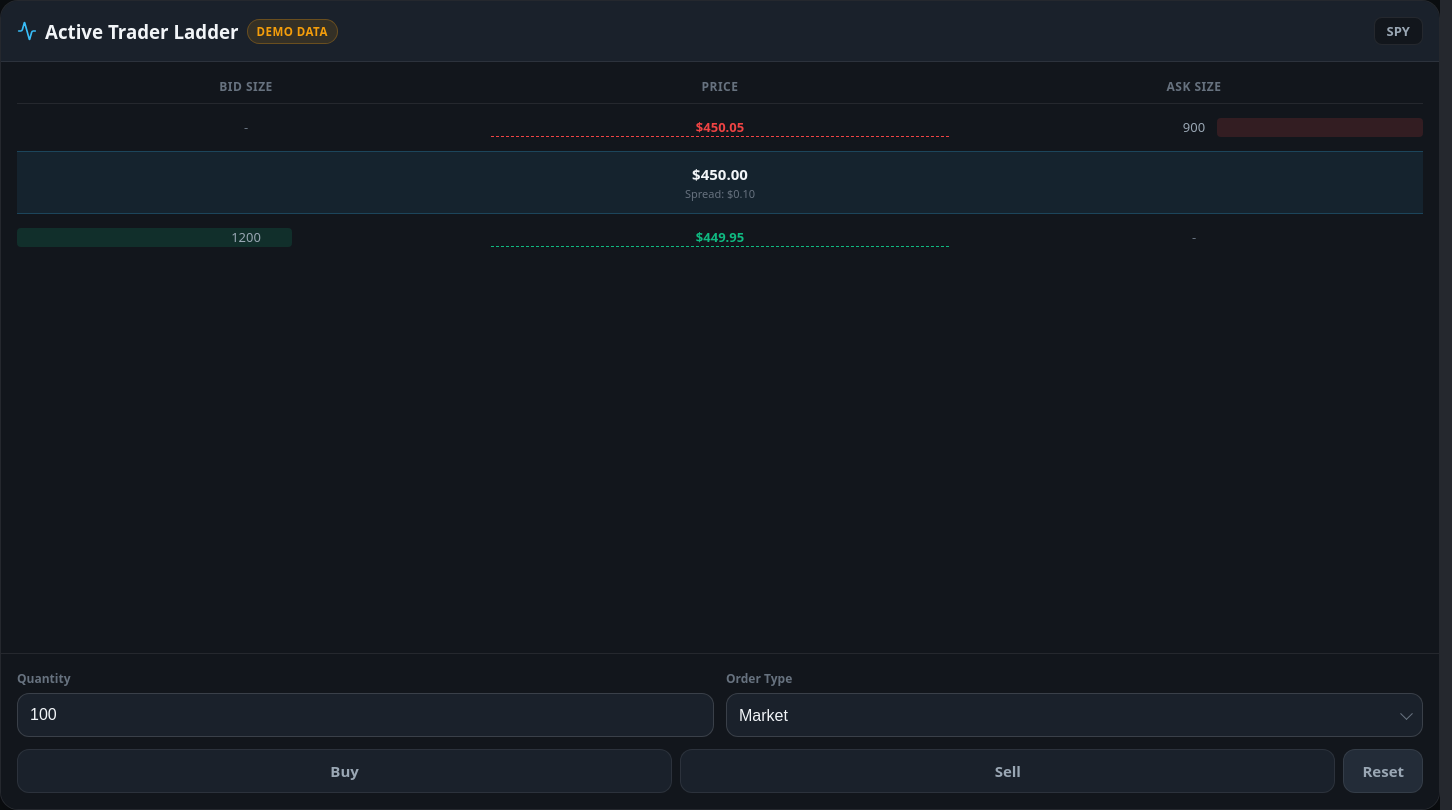
Scenario: ActiveTraderLadder — trade panel › Buy with the MARKET default composes a market-order command, never claiming to run the queue-only skill
The image size is (1452, 810).
Click the button with test id "ladder-buy-button" at (345, 771), box [17,749,672,793]
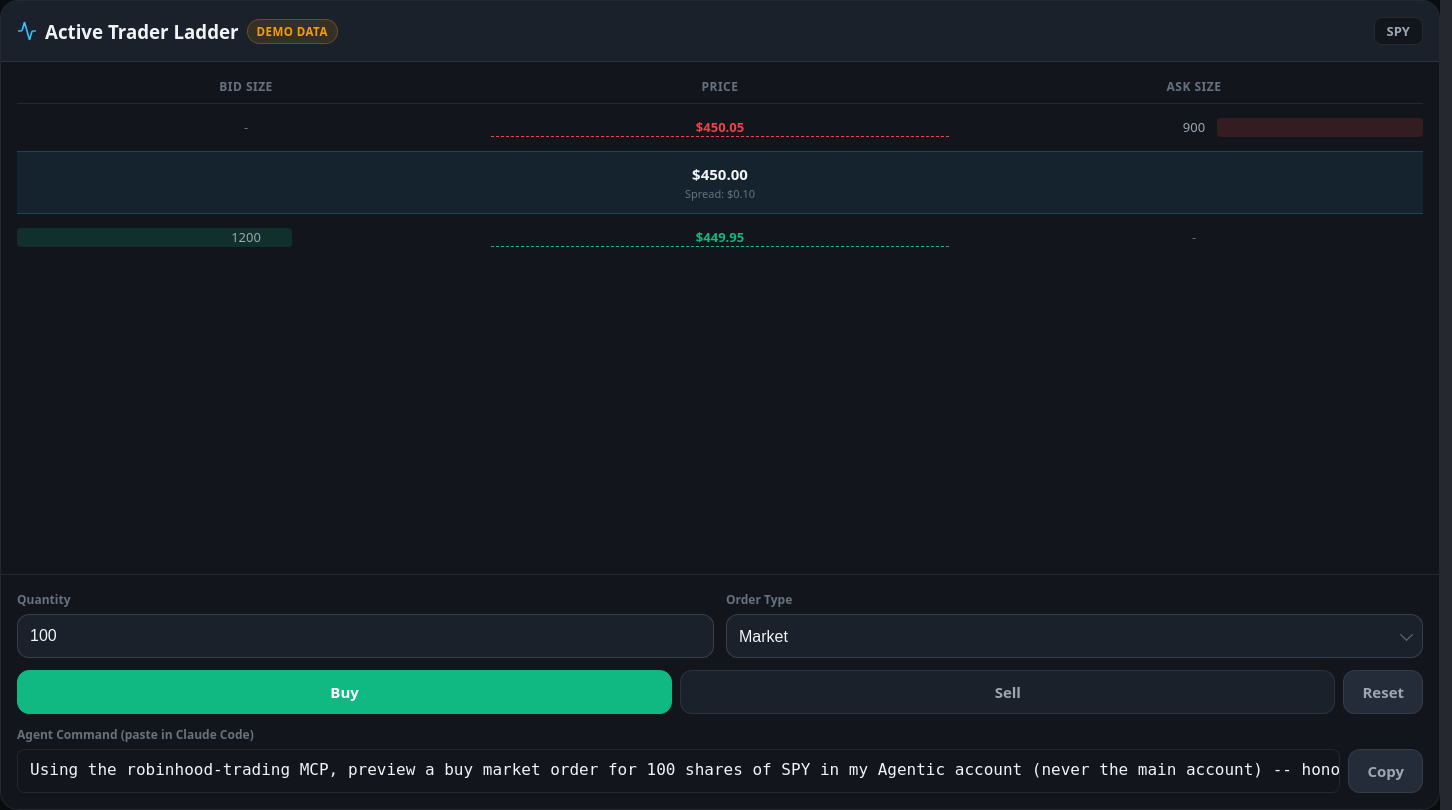
Result: the text with test id "ladder-order-command-composed" shows "buy market order for 100 shares of SPY" at [30,760,1440,779]
Result: the text with test id "ladder-order-command-composed" shows "robinhood-trading MCP" at [30,760,1440,779]
Result: the text with test id "ladder-order-command-composed" shows "Agentic account" at [30,760,1440,779]
